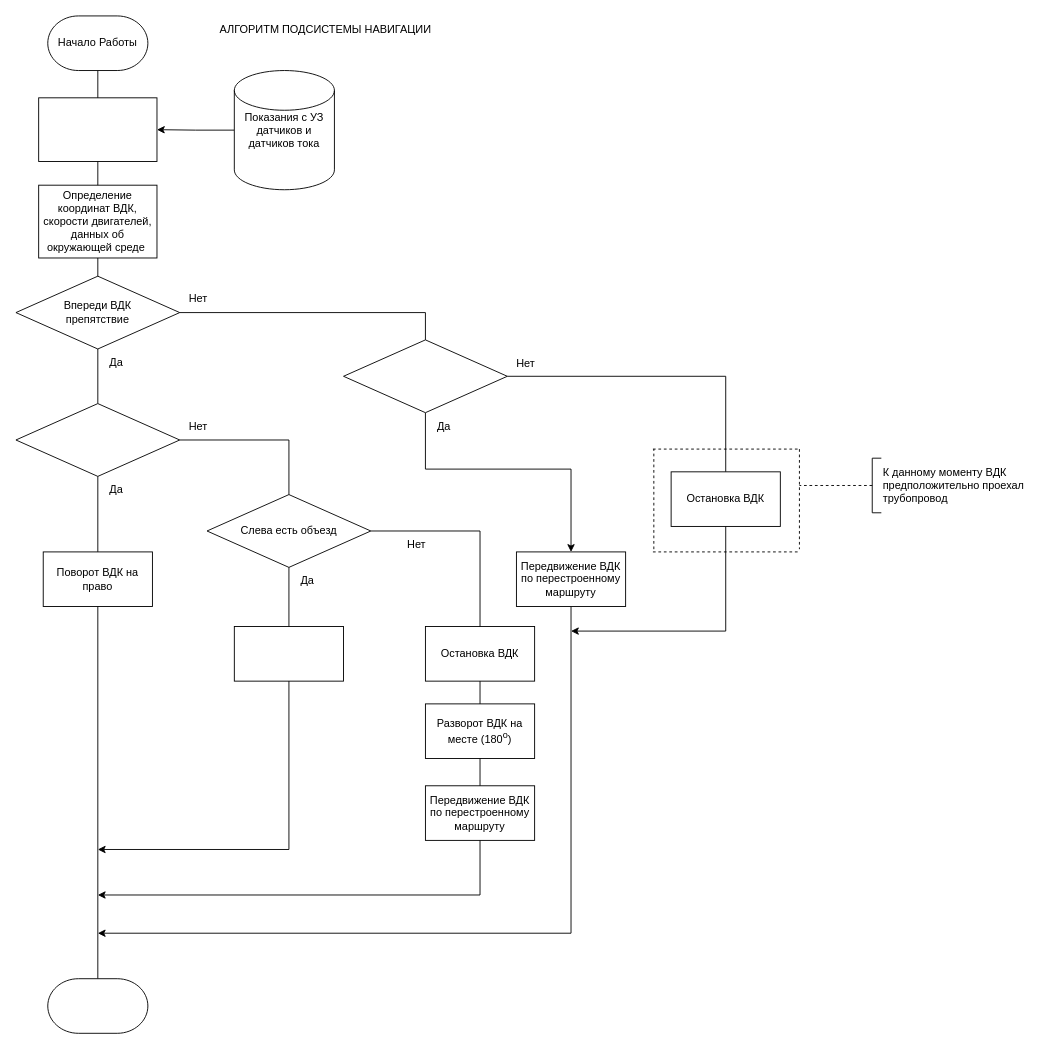
Some shapes in this 1052 by 1049 pixel diagram are drawn without their labels. The box of each missing label's shape, as (x1, y1, x2, y2) in pixels:
Конец Работы: (47, 978, 148, 1033)
Начальная обработка данных: (38, 97, 157, 162)
Поворот ВДК на лево: (233, 626, 344, 681)
Слева и справа ВДК присутствуют стены: (343, 339, 507, 413)
Справа есть объезд: (15, 403, 180, 476)
